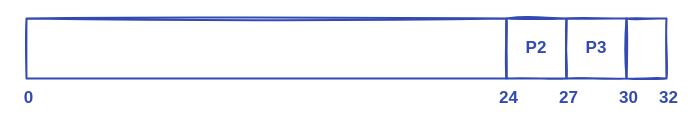
Some shapes in this 698 by 125 pixel diagram are drawn without their labels. Here are the shapes that lost their labels. From the top down, the box of each, then its label:
(25, 17, 507, 79): P1
(625, 17, 667, 79): P4
